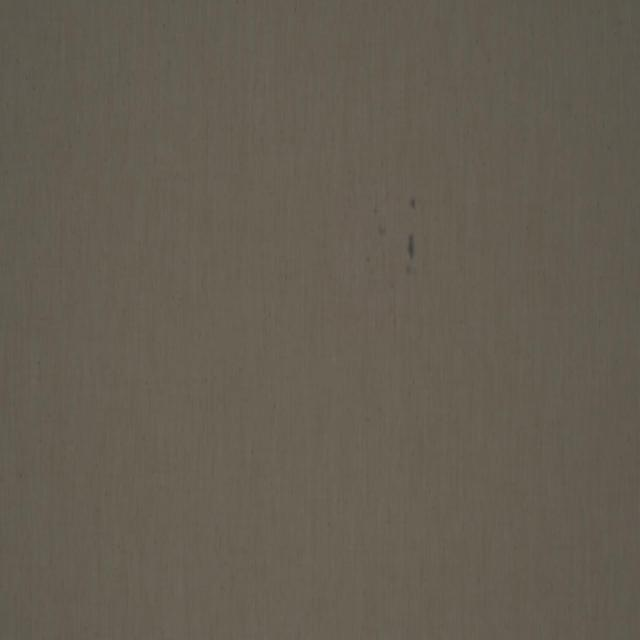dirty: (407, 234, 415, 276), (411, 198, 418, 212)
